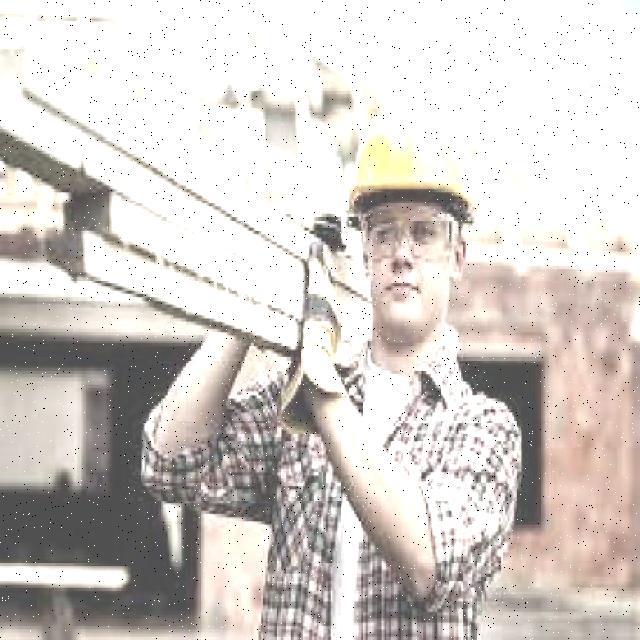Gloves: (286, 239, 348, 396)
Helmet: (350, 99, 481, 210)
